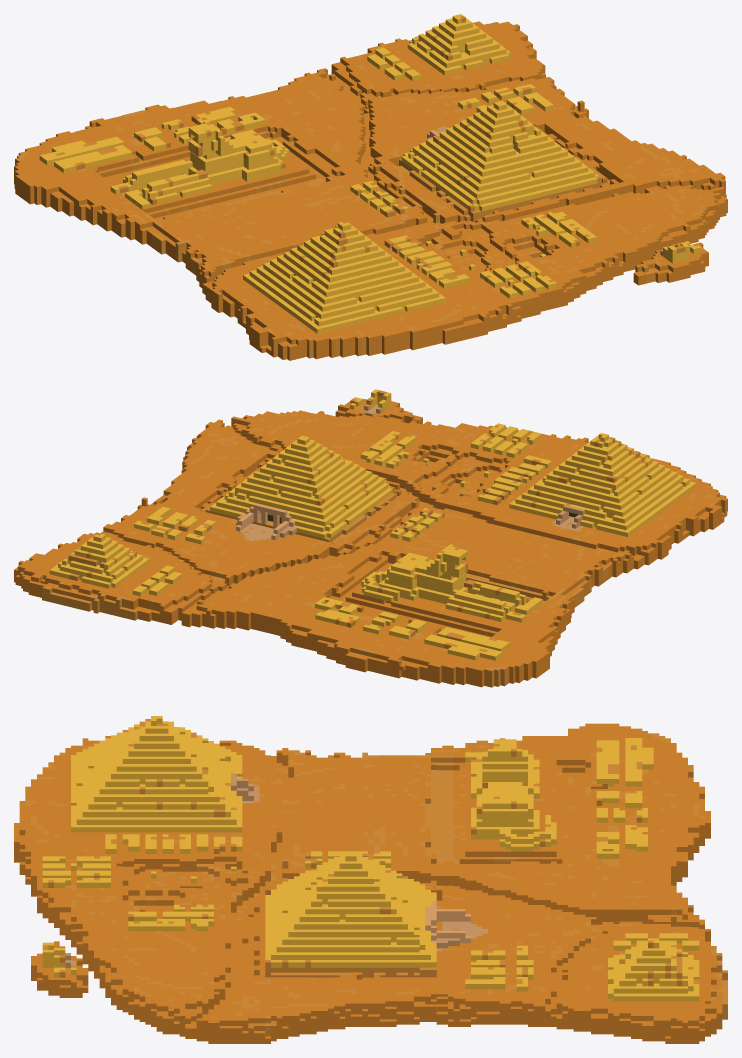
The model's file is Desert_01.obj.
3 views of the same model, one above another, from view 1: azimuth 30°, elevation 25°; view 2: azimuth 150°, elevation 25°; view 3: azimuth 270°, elevation 25° (orthographic). The views are drawn at different scales.
Size of the model in its own units: 12.4 by 1.9 by 12.5.
Materials: 1 (1 with a texture image).
